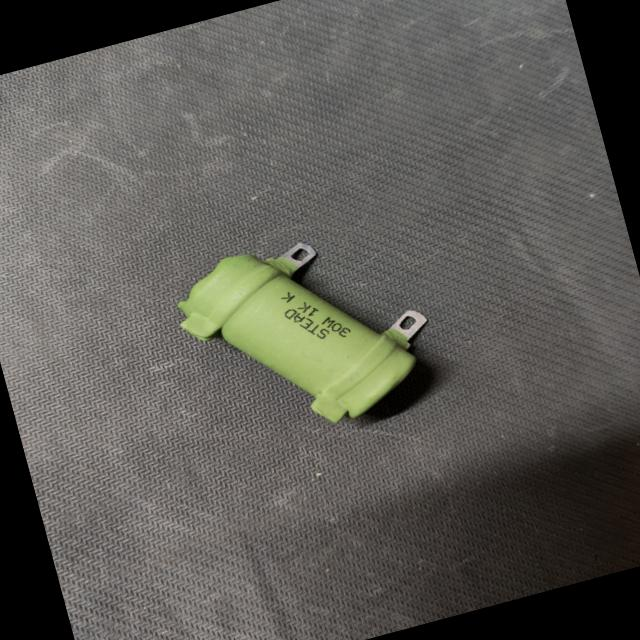resistor: (147, 186, 474, 482)
